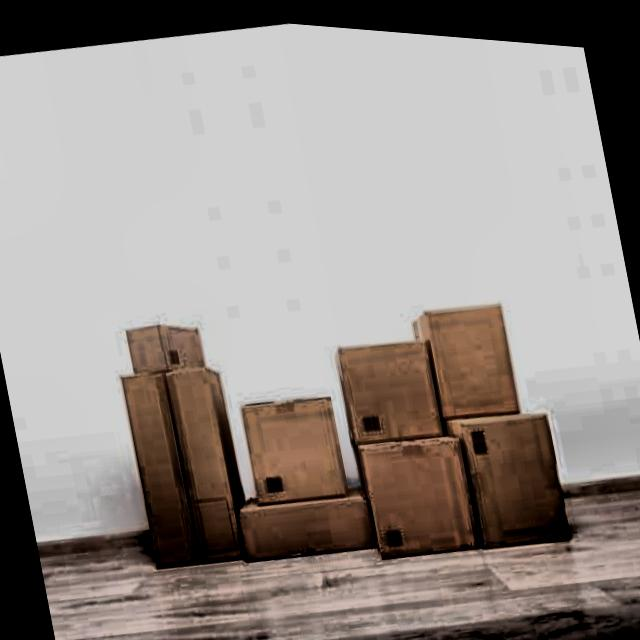Cardbox: (104, 340, 262, 592), (343, 412, 495, 569), (224, 363, 368, 517), (449, 392, 582, 554), (401, 267, 525, 425), (226, 463, 381, 575), (328, 315, 450, 451), (119, 296, 228, 384)
